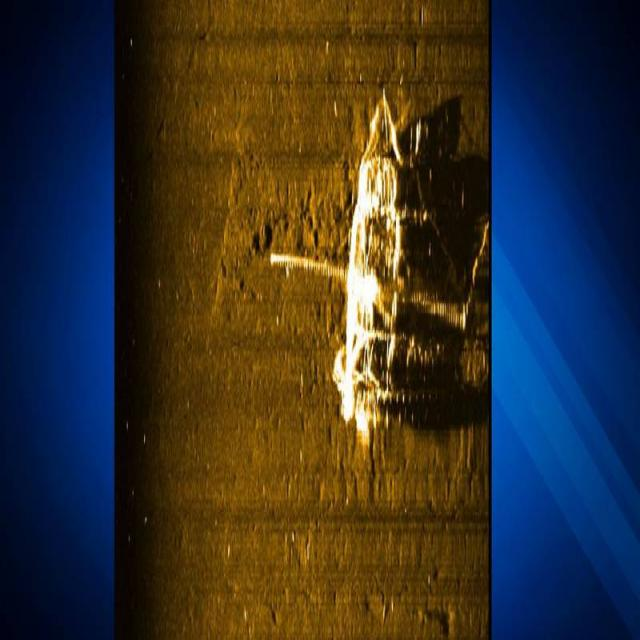ship: (330, 82, 412, 444)
